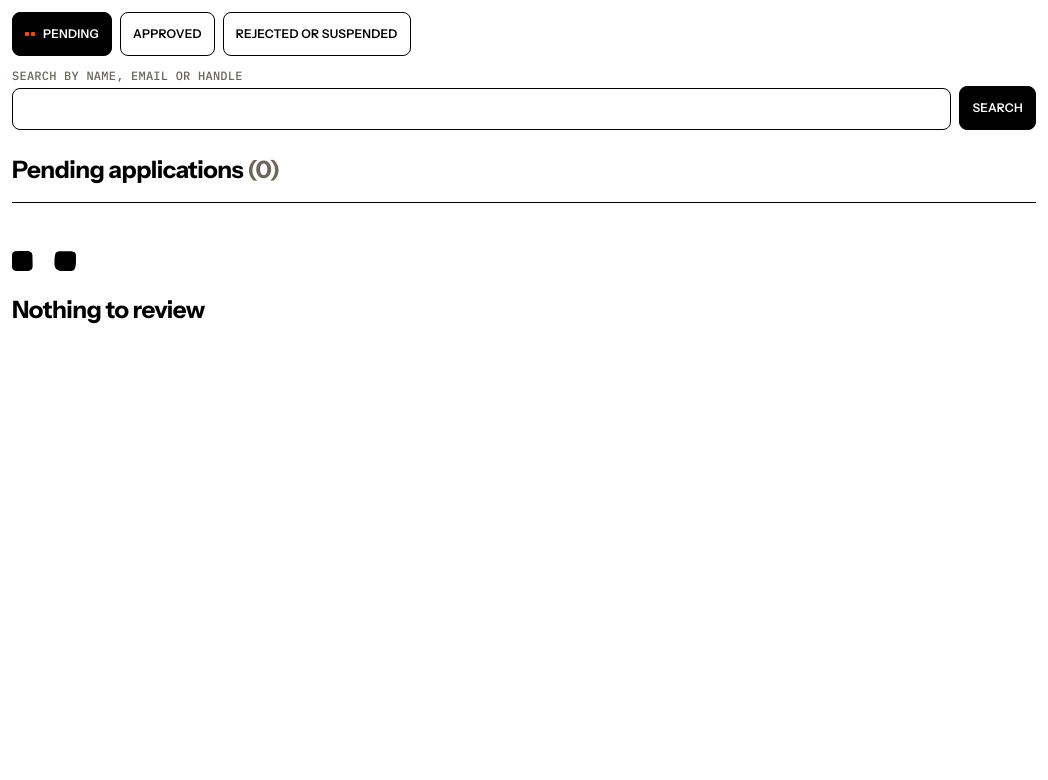
Test: Admin organisers: statuses › starts on pending applications and can reach approved and rejected organisers
Expected: the text "Nothing to review" is shown, [12,295,205,324]
Click the button "Approved" at (167, 34), box [120,12,215,56]
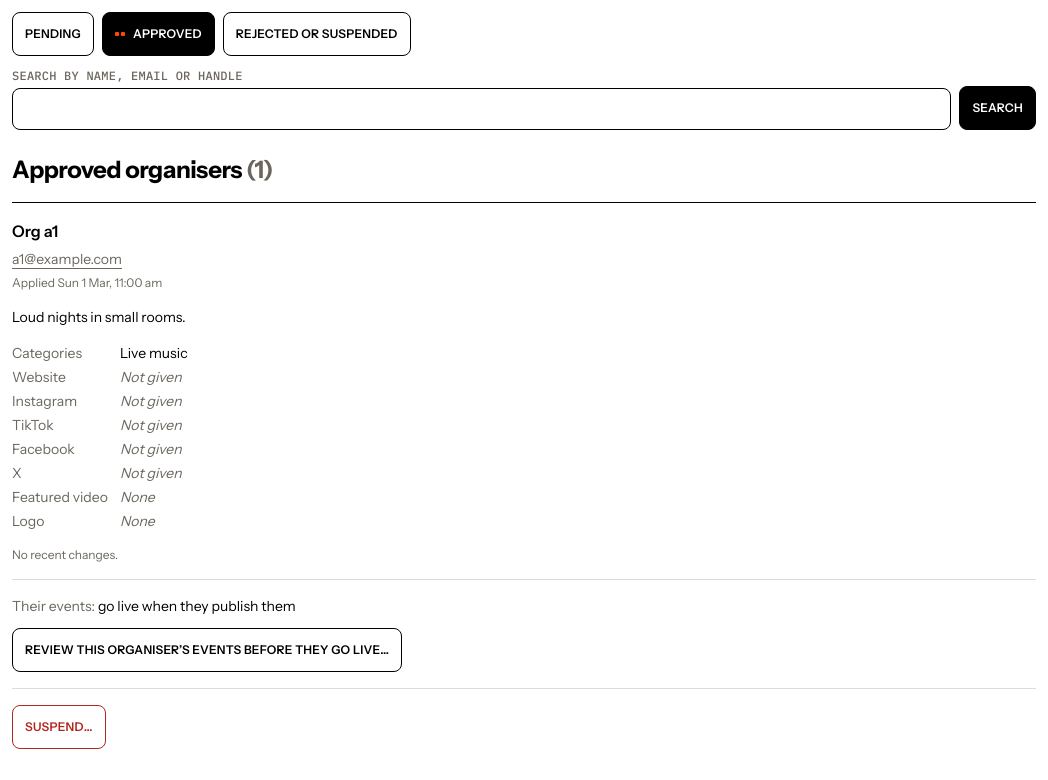
Expected: the heading "Org a1" is shown, [12,221,58,241]
Expected: the heading "Approved organisers (1)" is shown, [12,155,273,184]
Click the button "Rejected or suspended" at (317, 34), box [223,12,411,56]
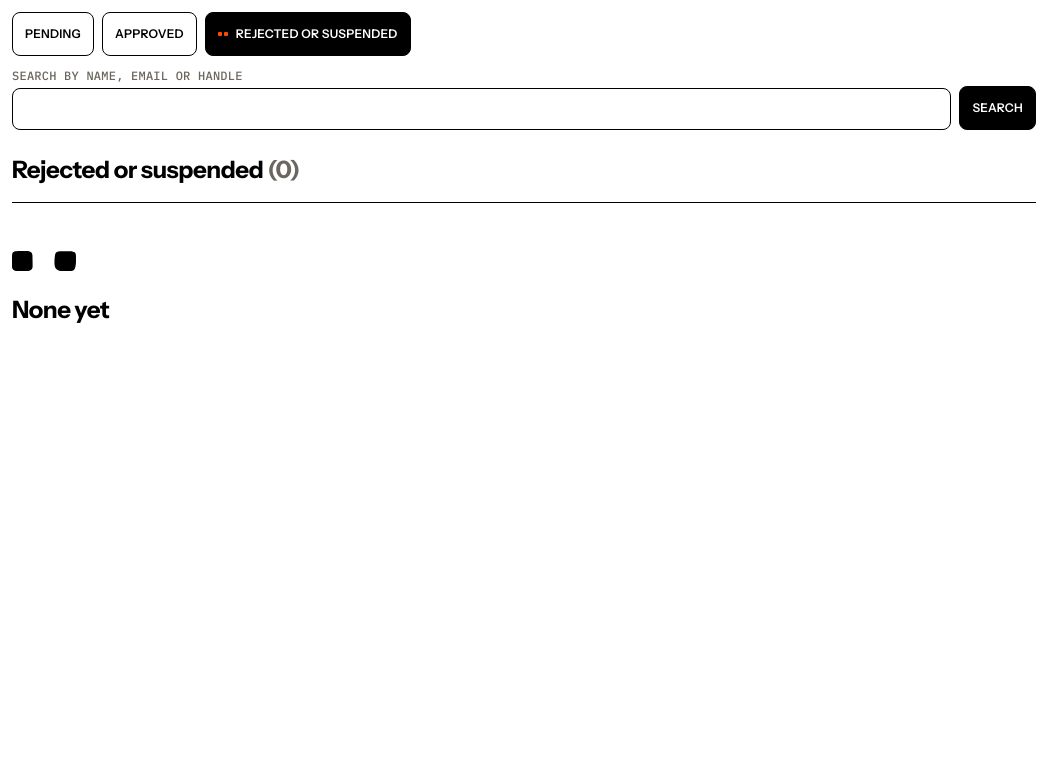
Expected: the text "None yet" is shown, [12,295,109,324]
